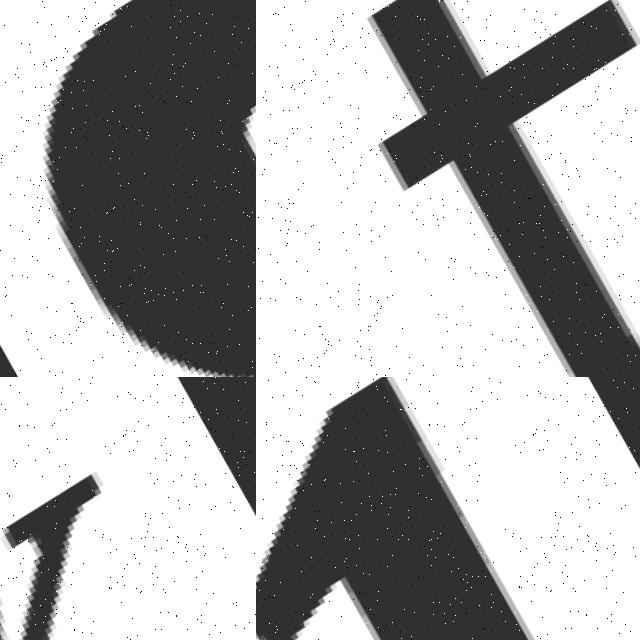1: (256, 377, 640, 640)
K: (0, 377, 256, 640)
Q: (0, 0, 256, 377)
T: (289, 0, 640, 377)
